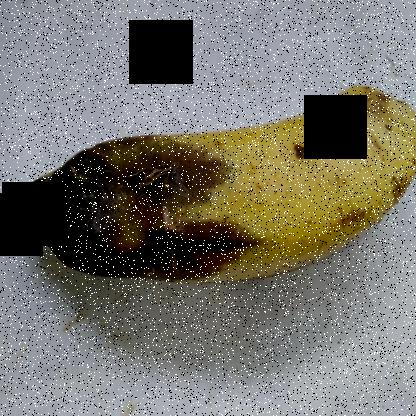rotten: (16, 90, 264, 296)
